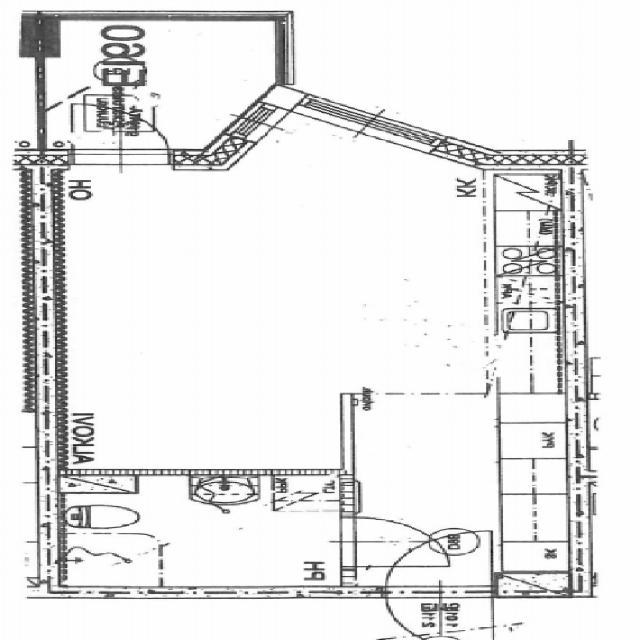door: (385, 532, 493, 598), (74, 100, 171, 170), (385, 587, 493, 640), (342, 518, 447, 566)
